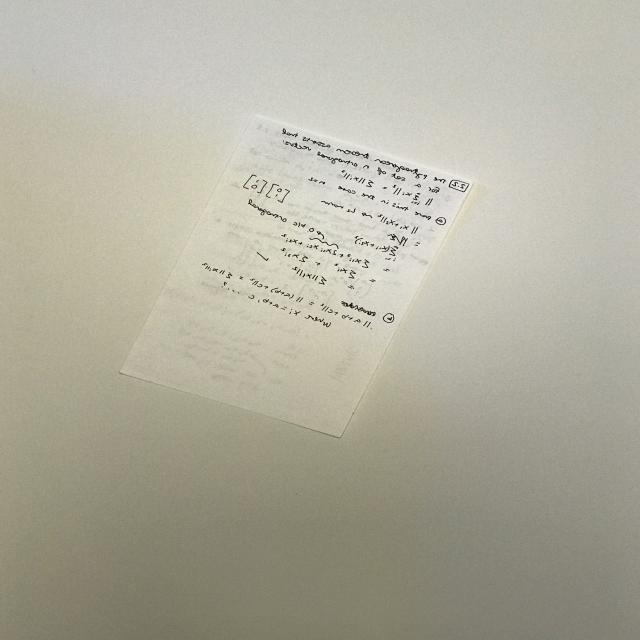paper: (108, 97, 494, 446)
